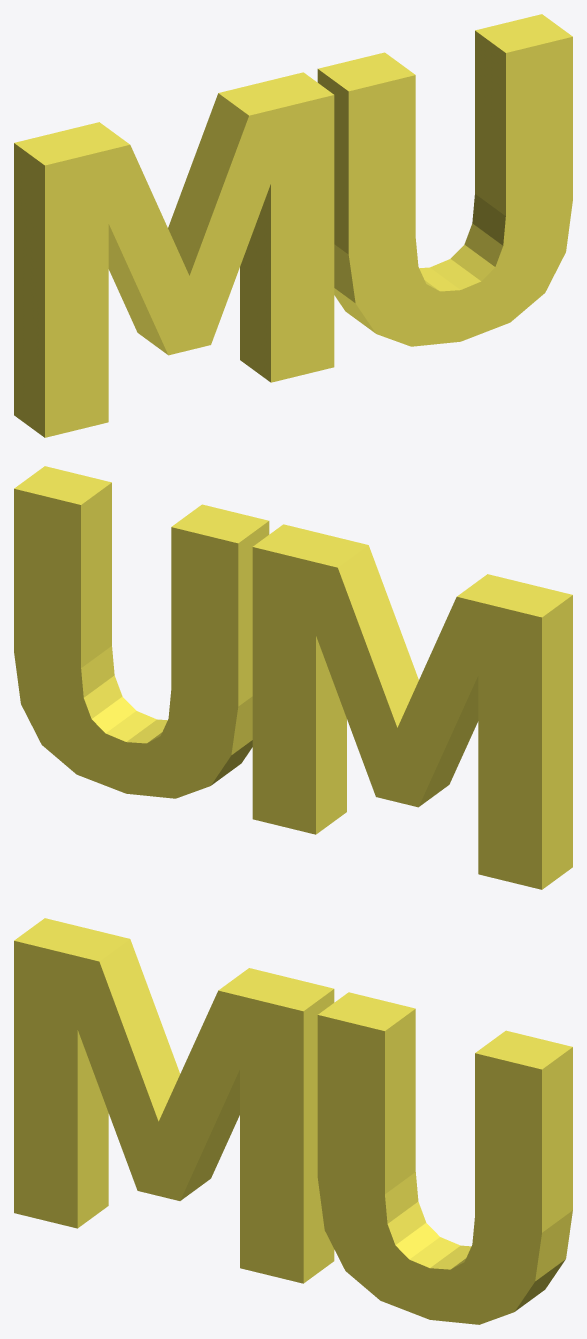
The model's file is suku_besar_mu.glb.
The picture shows the model from 3 angles, top to bottom: view 1: azimuth 30°, elevation 25°; view 2: azimuth 150°, elevation 25°; view 3: azimuth 330°, elevation 25°; orthographic projection.
Parts seen in each view (by area): view 1: geometry_0; view 2: geometry_0; view 3: geometry_0.
Part boxes in pixels (<box>): geometry_0: <box>14,14,572,437</box>; geometry_0: <box>14,466,572,889</box>; geometry_0: <box>14,918,572,1324</box>.
Bounding box in the file's own units: 14.79 × 7.43 × 1.5.
